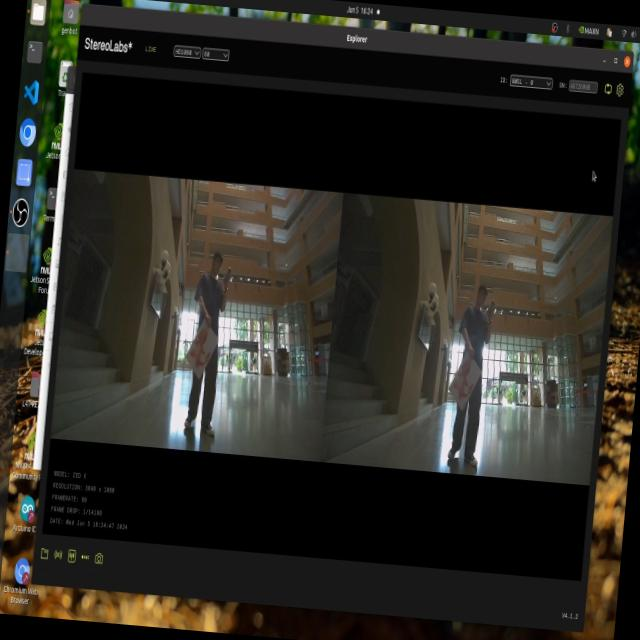red: (192, 326, 222, 372), (451, 368, 476, 401)
